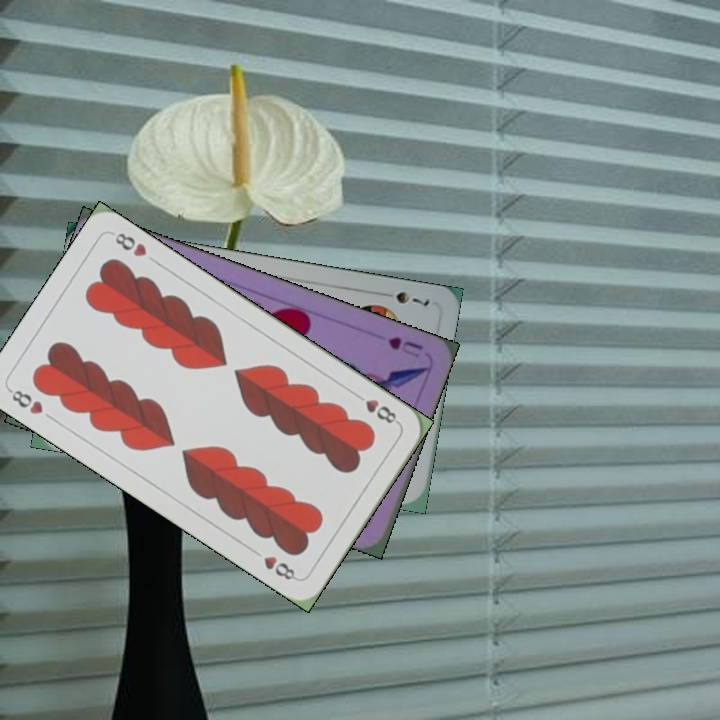H8: (349, 388, 402, 427), (4, 385, 46, 417)
HU: (383, 333, 426, 361)
S7: (375, 287, 433, 309)
